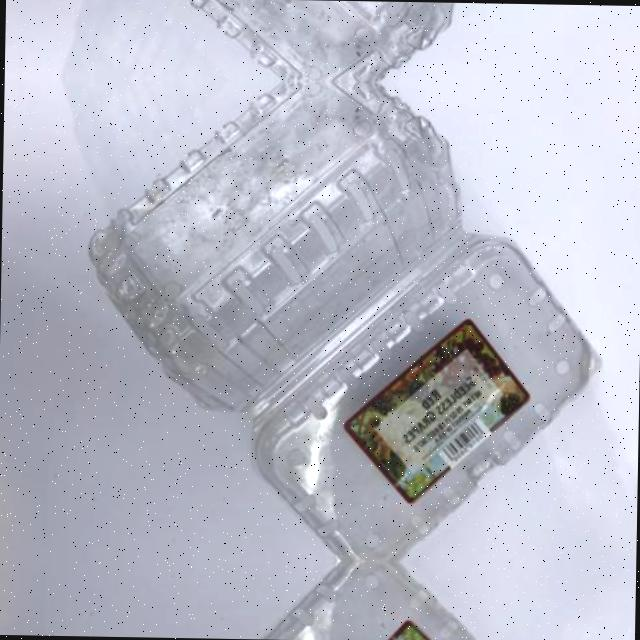Plastic: (81, 76, 598, 565), (90, 0, 600, 85), (80, 556, 590, 640)
